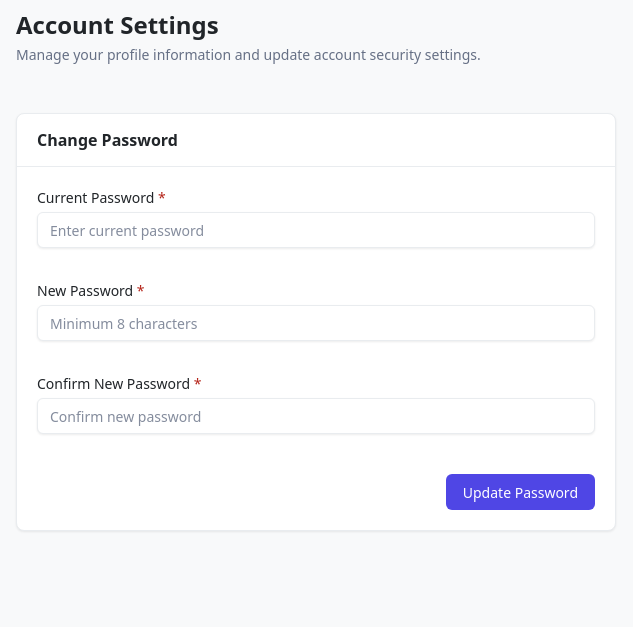
Test: AccountPage › shows client-side validation errors for empty fields
This screenshot has width=633, height=627.
Click the button "Update Password".
click(520, 492)  # box top-left (446, 474), bottom-right (595, 510)
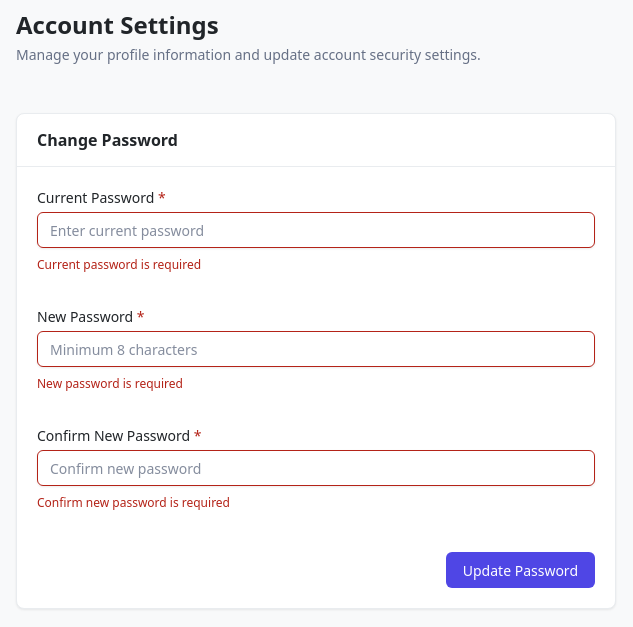
Result: the text "Current password is required" is shown at top-left (37, 256), bottom-right (201, 273)
Result: the text "New password is required" is shown at top-left (37, 375), bottom-right (183, 392)
Result: the text "Confirm new password is required" is shown at top-left (37, 494), bottom-right (230, 511)
